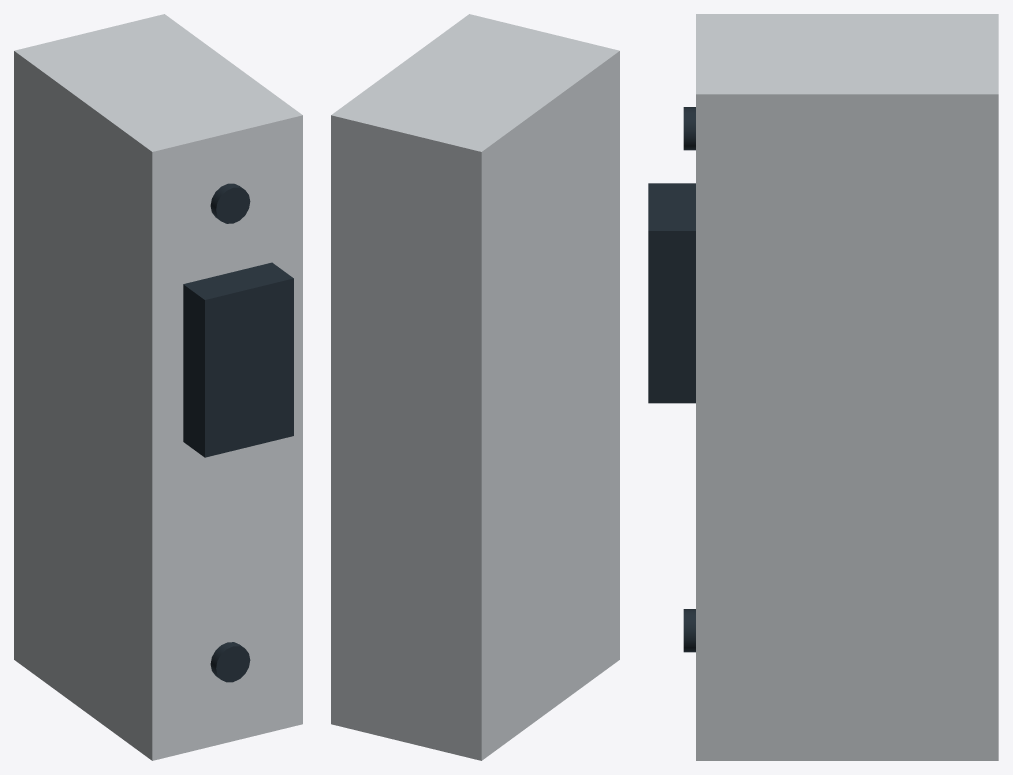
3 views of the same model, side by side, from view 1: azimuth 30°, elevation 25°; view 2: azimuth 150°, elevation 25°; view 3: azimuth 270°, elevation 25° (orthographic). The views are drawn at different scales.
Visible parts, largest first — view 1: 微型断路器1P; view 2: 微型断路器1P; view 3: 微型断路器1P.
Part boxes in pixels (x1,y1,x2,y2): 微型断路器1P: [14, 14, 302, 760]; 微型断路器1P: [331, 14, 619, 760]; 微型断路器1P: [648, 14, 998, 760].
Bounding box in the file's own units: 0.22 × 0.85 × 0.405.
